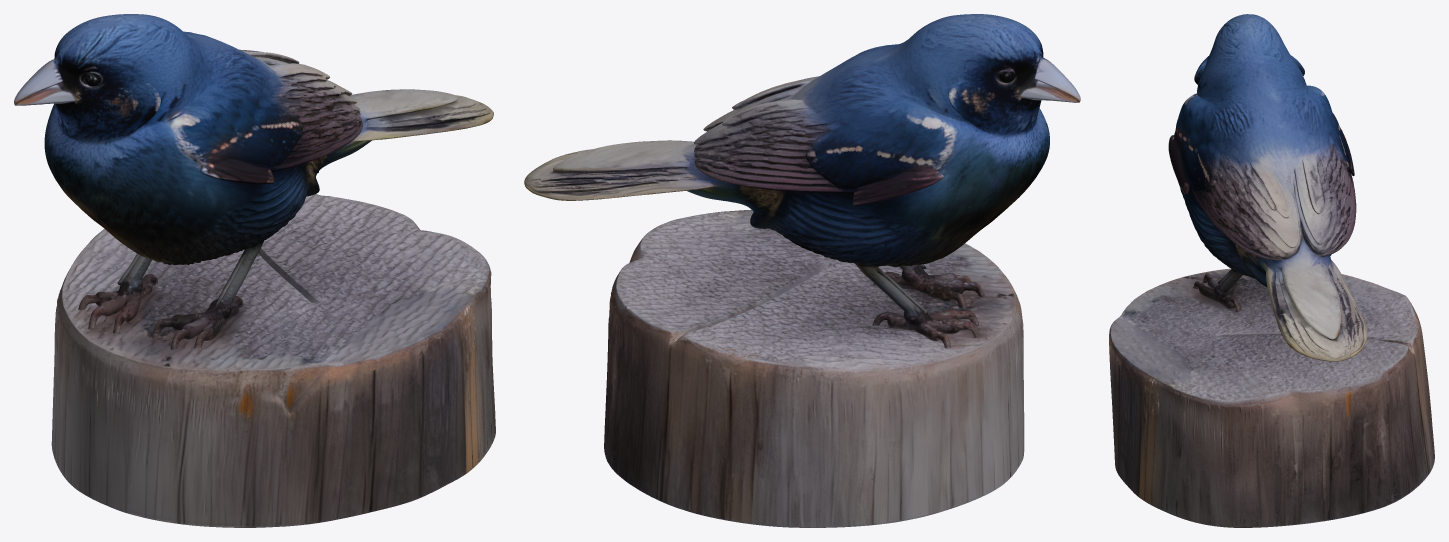
File: nm__grassquit.glb
3 views of the same model, side by side, from view 1: azimuth 30°, elevation 25°; view 2: azimuth 150°, elevation 25°; view 3: azimuth 270°, elevation 25° (orthographic). The views are drawn at different scales.
Visible parts, largest first — view 1: Object_3, Object_2; view 2: Object_2, Object_3; view 3: Object_3, Object_2.
Boxes of the visible parts, bbox=[...] form: Object_3: bbox=[51, 16, 495, 527]; Object_2: bbox=[14, 14, 493, 406]; Object_2: bbox=[524, 14, 1080, 454]; Object_3: bbox=[604, 14, 1049, 527]; Object_3: bbox=[1109, 25, 1434, 527]; Object_2: bbox=[1155, 14, 1424, 417].
Bounding box in the file's own units: 0.641 × 0.5547 × 0.4454.
Materials: 1 (1 with a texture image).
